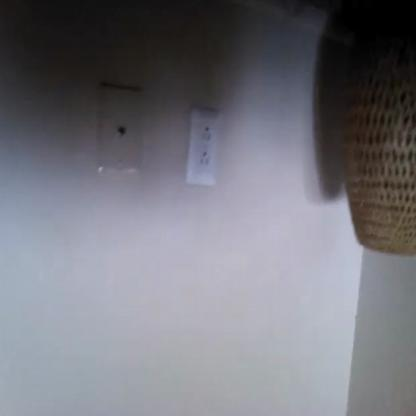OUTLET: (187, 108, 220, 186)
